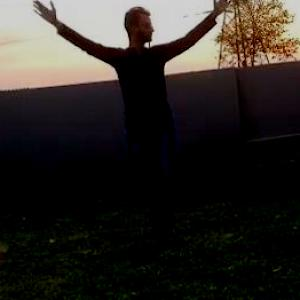takeoff: (28, 1, 226, 228)
